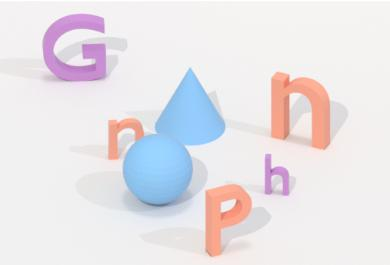0-TamGiac: (153, 63, 237, 150)
0-Tron: (121, 132, 196, 209)
G: (38, 9, 111, 87)
P: (200, 180, 255, 259)
h: (260, 147, 295, 201)
n: (267, 66, 335, 154), (105, 113, 148, 165)
